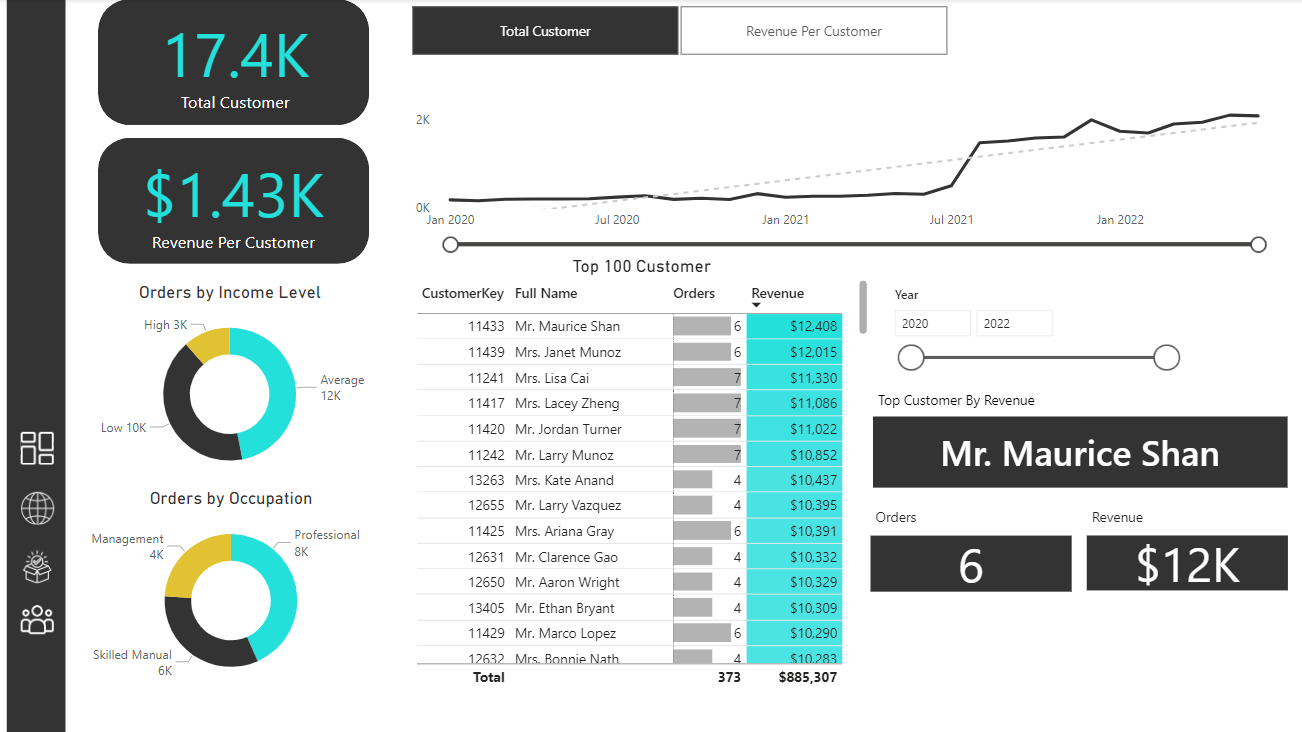

Layout of this report page (visuals, bound fields, positions):
{"tool":"powerbi","page":{"name":"Customer","canvas":[1280,720],"ordinal":3},"visuals":[{"type":"actionButton","box":[0,0,55,40.4],"z":0},{"type":"shape","title":"Left Nav bg","box":[8.1,0,57.5,720.2],"z":0,"group":"g1"},{"type":"lineChart","fields":{"Y":["Measure Lists.Revenue Per Customer"],"Category":["Calendar Lookup.Date Hierarchy.Date","Calendar Lookup.Date Hierarchy.Month","Calendar Lookup.Date Hierarchy.Month Name","Calendar Lookup.Date Hierarchy.Day","Calendar Lookup.Date Hierarchy.Start of Month","Calendar Lookup.Date Hierarchy.Quarter"]},"box":[403.5,61.1,858.4,189.5],"z":1000},{"type":"tableEx","title":"Top 100 Customer","fields":{"Values":["Customer Lookup.CustomerKey","Customer Lookup.Full Name","Measure Lists.Total Orders","Measure Lists.Total Revenue"]},"box":[403.5,250.7,452.4,429.2],"z":2000},{"type":"card","fields":{"Values":["Min(Customer Lookup.Full Name)"]},"box":[856,408.4,406,69.7],"z":3000},{"type":"actionButton","title":"Customer Button","box":[10,587,55,40.4],"z":3000,"group":"g1"},{"type":"textbox","box":[856,377.9,406,29.3],"z":4000},{"type":"actionButton","title":"Products Button","box":[10,535.6,55,40.4],"z":4000,"group":"g1"},{"type":"actionButton","title":"Map Button","box":[11.2,478.1,53.8,40.4],"z":5000,"group":"g1"},{"type":"card","fields":{"Values":["Measure Lists.Total Orders"]},"box":[853.5,524.6,196.9,55],"z":5000},{"type":"actionButton","title":"Home Button","box":[10,419.4,55,40.4],"z":6000,"group":"g1"},{"type":"card","fields":{"Values":["Measure Lists.Total Revenue"]},"box":[1065.1,523.4,196.9,55],"z":6000},{"type":"textbox","box":[853.5,492.8,198.1,31.8],"z":7000},{"type":"textbox","box":[1065.1,492.8,196.9,31.8],"z":8000},{"type":"slicer","fields":{"Values":["Customers Matrix.Customers Matrix"]},"box":[379.1,0,573.5,61.1],"z":9000},{"type":"shape","box":[97.8,0,265.4,123.5],"z":10000},{"type":"card","fields":{"Values":["Measure Lists.Total Customer"]},"box":[129.6,0,205.4,123.5],"z":11000},{"type":"shape","box":[97.8,135.7,265.4,123.5],"z":12000},{"type":"card","fields":{"Values":["Measure Lists.Revenue Per Customer"]},"box":[117.4,137,226.2,123.5],"z":13000},{"type":"donutChart","title":"Orders by Income Level","fields":{"Category":["Customer Lookup.Income Level"],"Y":["Measure Lists.Total Orders"]},"box":[80.7,276.4,292.3,201.8],"z":14000},{"type":"donutChart","title":"Orders by Occupation","fields":{"Y":["Measure Lists.Total Orders"],"Category":["Customer Lookup.Occupation"]},"box":[81.9,478.1,292.3,201.8],"z":15000},{"type":"group","id":"g1","title":"Side Bar Panel","box":[8.1,0,57.5,720.2],"z":16000},{"type":"slicer","fields":{"Values":["Calendar Lookup.Year"]},"box":[864.5,276.4,299.6,101.5],"z":17000}]}

Visuals, with their boxes in screenshot pixels (x1, y1, x2, y2), scaled from the page's 1280x720 canvas onto the 1302x732 screenshot:
actionButton: x1=0 y1=0 x2=56 y2=41
"Left Nav bg" shape: x1=8 y1=0 x2=67 y2=731
lineChart - Measure Lists.Revenue Per Customer x Calendar Lookup.Date Hierarchy.Date: x1=410 y1=62 x2=1284 y2=255
"Top 100 Customer" tableEx: x1=410 y1=255 x2=871 y2=691
card - Min(Customer Lookup.Full Name): x1=871 y1=415 x2=1284 y2=486
"Customer Button" actionButton: x1=10 y1=597 x2=66 y2=638
textbox: x1=871 y1=384 x2=1284 y2=414
"Products Button" actionButton: x1=10 y1=545 x2=66 y2=586
"Map Button" actionButton: x1=11 y1=486 x2=66 y2=527
card - Measure Lists.Total Orders: x1=868 y1=533 x2=1068 y2=589
"Home Button" actionButton: x1=10 y1=426 x2=66 y2=467
card - Measure Lists.Total Revenue: x1=1083 y1=532 x2=1284 y2=588
textbox: x1=868 y1=501 x2=1070 y2=533
textbox: x1=1083 y1=501 x2=1284 y2=533
slicer - Customers Matrix.Customers Matrix: x1=386 y1=0 x2=969 y2=62
shape: x1=99 y1=0 x2=369 y2=126
card - Measure Lists.Total Customer: x1=132 y1=0 x2=341 y2=126
shape: x1=99 y1=138 x2=369 y2=264
card - Measure Lists.Revenue Per Customer: x1=119 y1=139 x2=350 y2=265
"Orders by Income Level" donutChart: x1=82 y1=281 x2=379 y2=486
"Orders by Occupation" donutChart: x1=83 y1=486 x2=381 y2=691
"Side Bar Panel" group: x1=8 y1=0 x2=67 y2=731
slicer - Calendar Lookup.Year: x1=879 y1=281 x2=1184 y2=384
